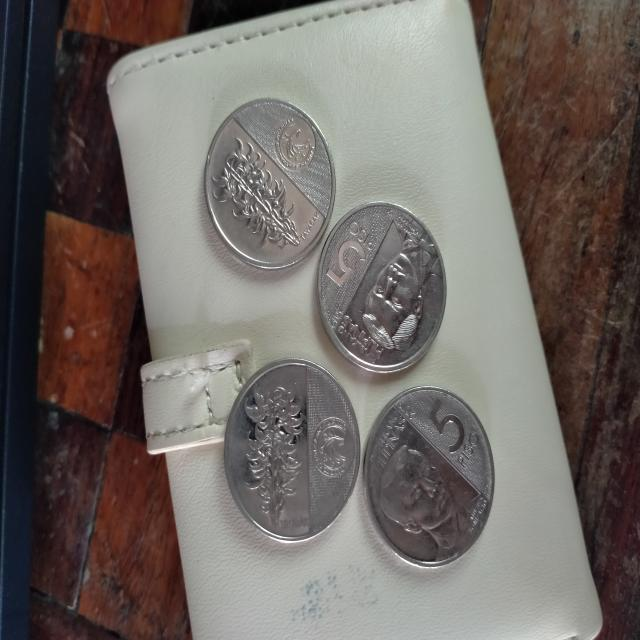5_New_Back: (198, 134, 308, 255), (231, 370, 304, 532)
5_New_Front: (318, 212, 382, 298), (423, 392, 483, 474)
